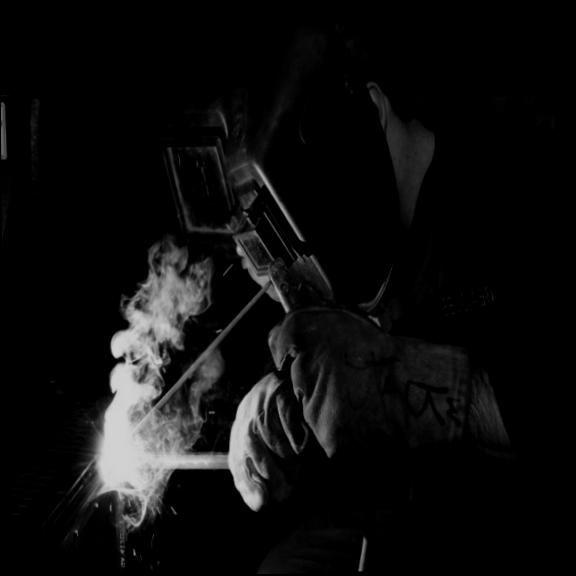no_safety_vest: (333, 86, 576, 541)
